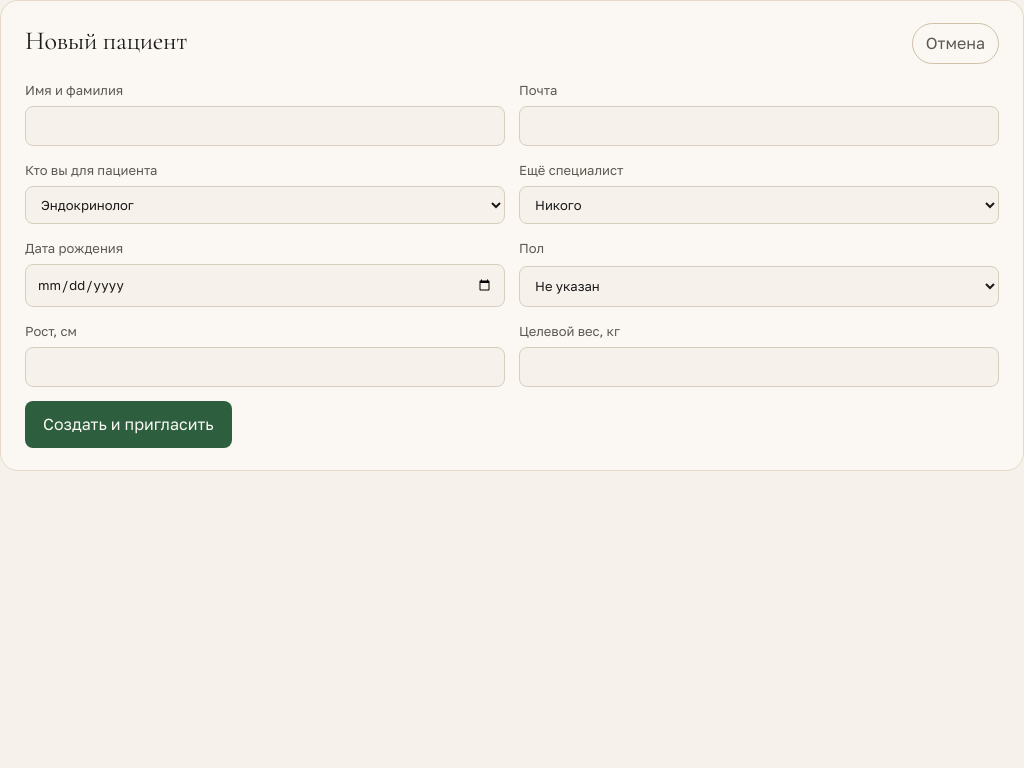
Test case: what the form does with a refusal › says in Russian that the address is already somebody
Type "Марина Волкова" into the field labelled "Имя и фамилия" at (265, 126), box [25, 106, 505, 146]
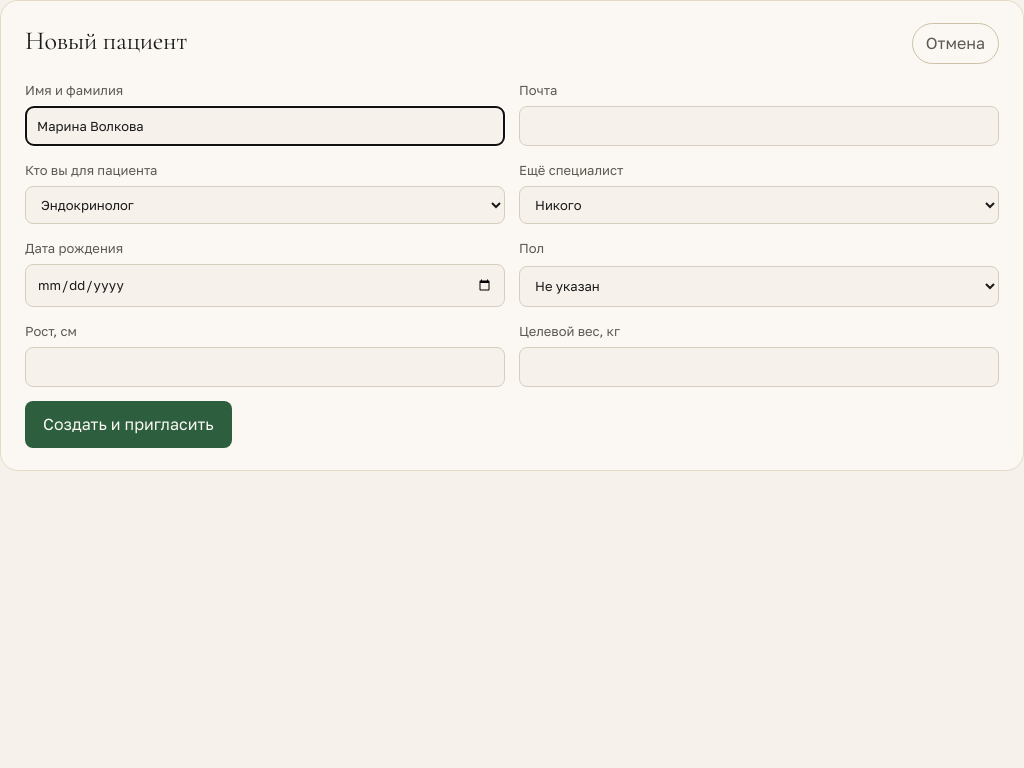
Type "marina@clinic.example" into the field labelled "Почта" at (759, 126), box [519, 106, 999, 146]
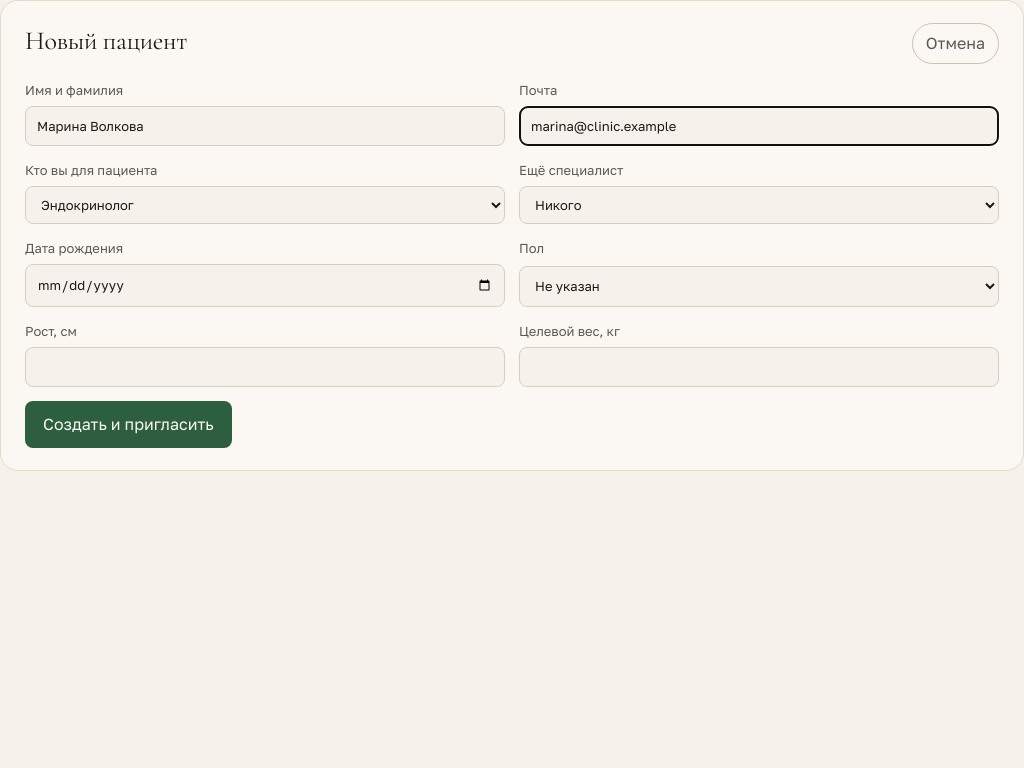
Click the button "Создать и пригласить" at (128, 424), box [25, 401, 232, 448]
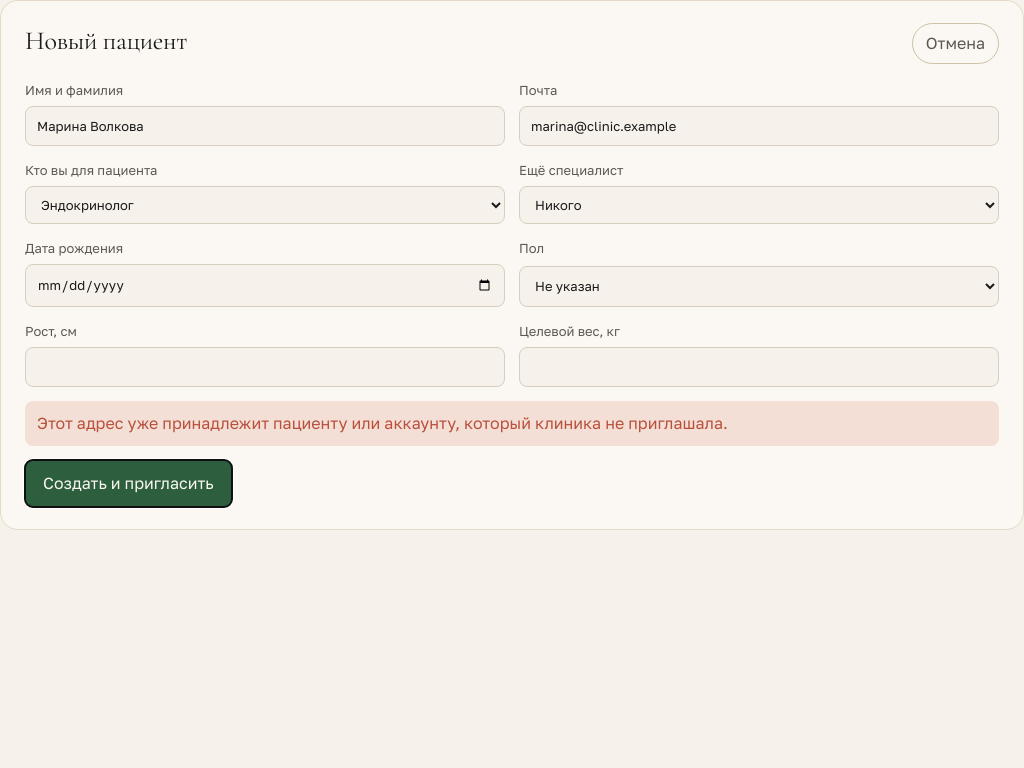
Expected: the message shows "Этот адрес уже принадлежит", [37, 413, 728, 433]
